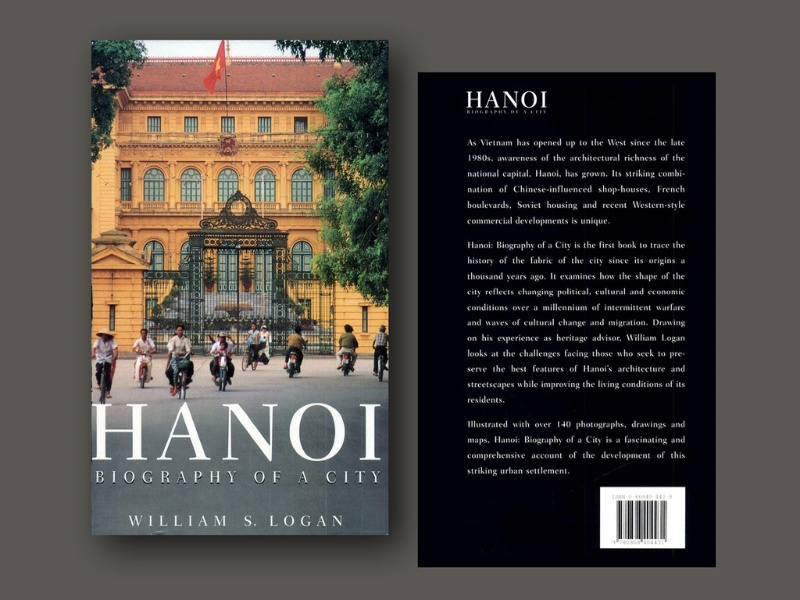book: (79, 24, 396, 548), (410, 61, 720, 574)
